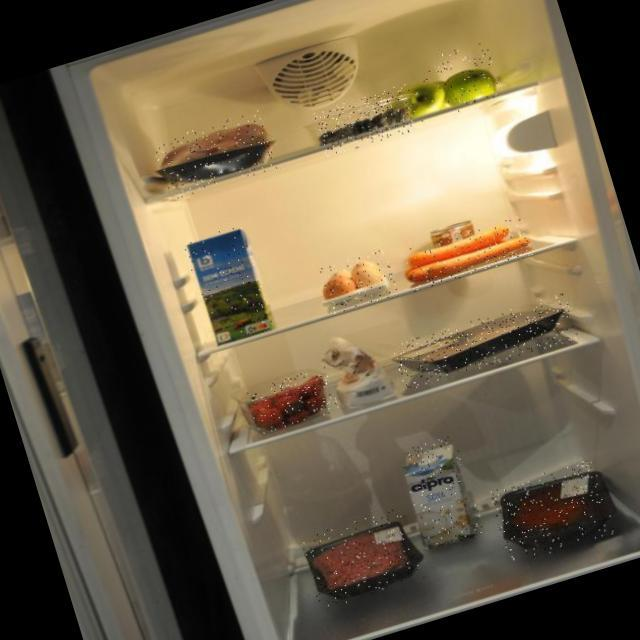Carne pollo: (151, 110, 277, 201)
Huevos: (320, 248, 399, 314)
Manzana: (424, 39, 506, 118), (383, 69, 461, 131)
